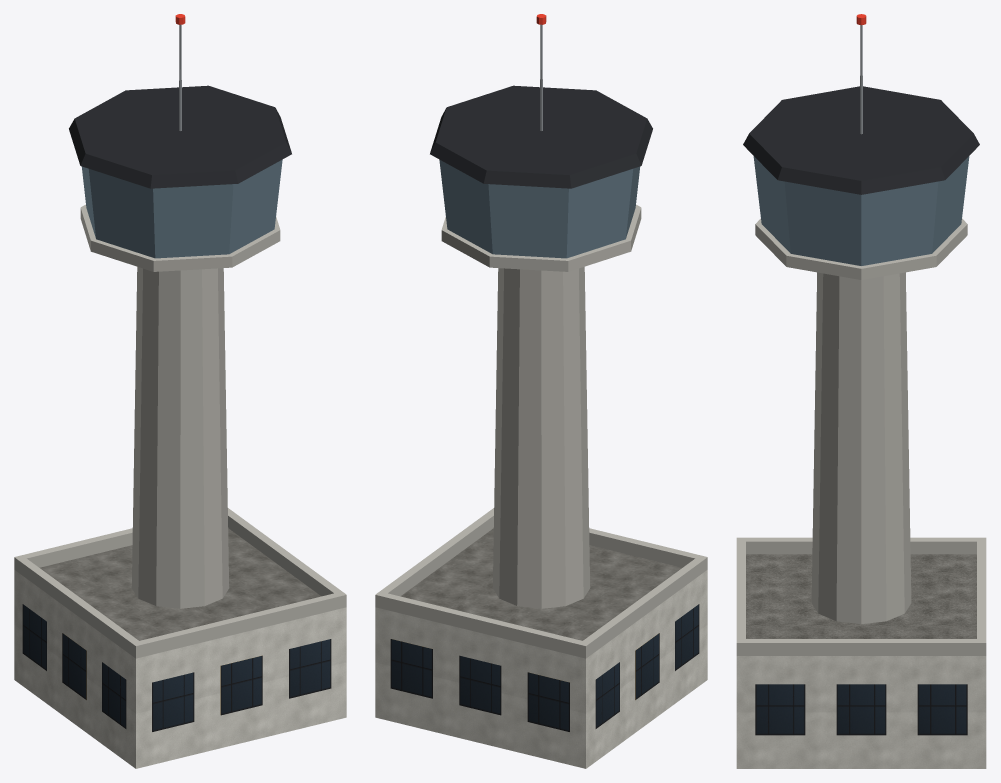
The model's file is let_budova_1.glb.
The picture shows the model from 3 angles, left to right: view 1: azimuth 30°, elevation 25°; view 2: azimuth 150°, elevation 25°; view 3: azimuth 270°, elevation 25°; orthographic projection. The views are drawn at different scales.
Visible parts, largest first — view 1: dum; view 2: dum; view 3: dum.
Part boxes in pixels (bbox=[...]): dum: bbox=[14, 24, 346, 768]; dum: bbox=[375, 24, 707, 768]; dum: bbox=[736, 25, 986, 768].
Bounding box in the file's own units: 8.04 × 24.75 × 8.04.
3 materials, 2 textured.
